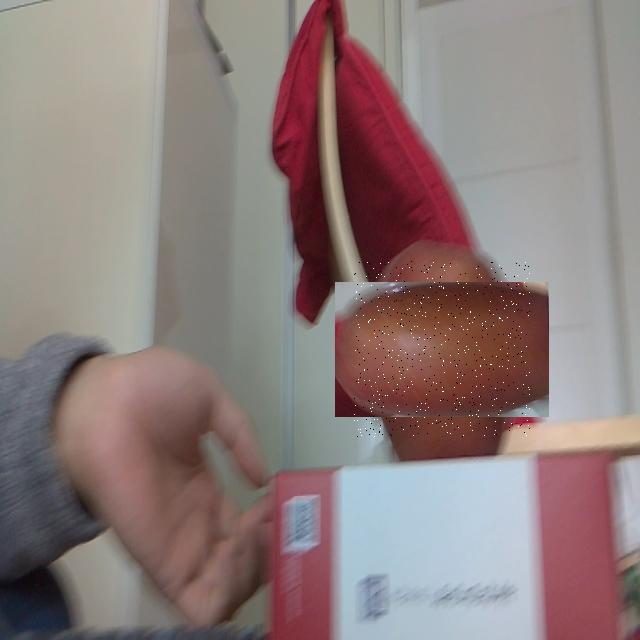apple: (354, 261, 530, 437)
